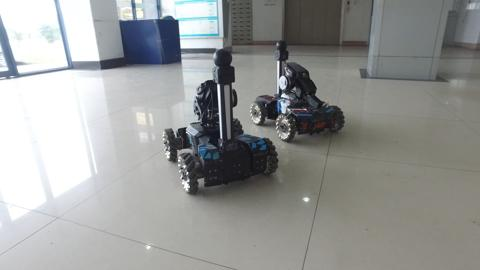chariot: (161, 48, 282, 193), (246, 39, 346, 152)
